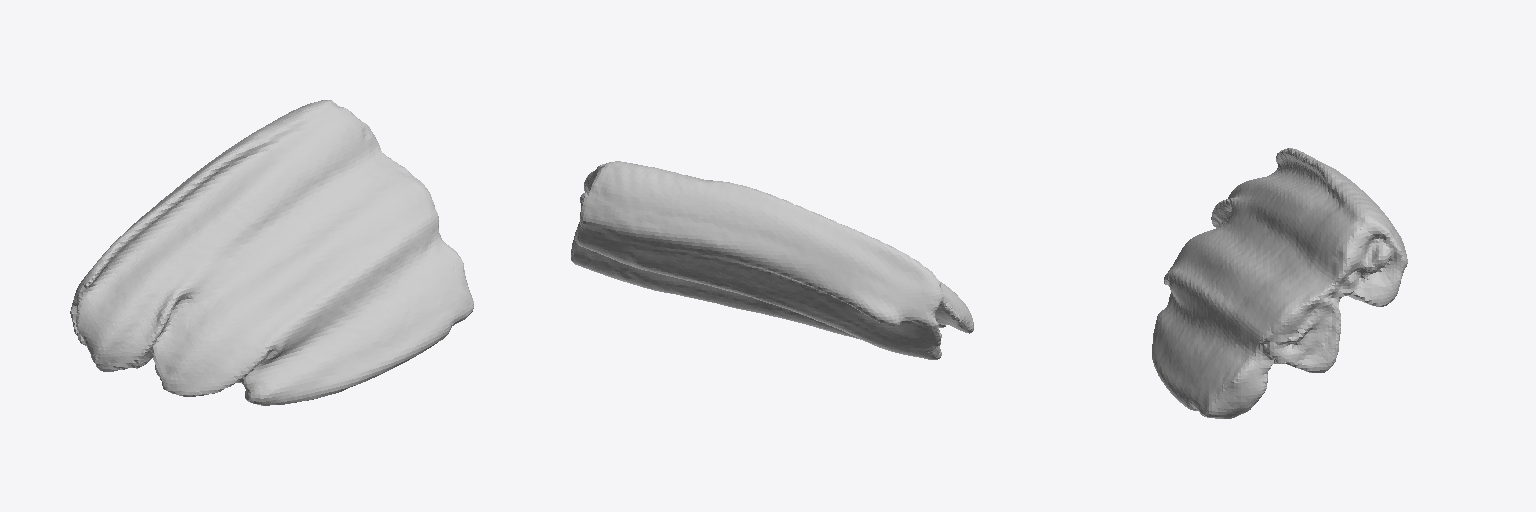
Rendered from MB Ovis 10 M3.obj.
The picture shows the model from 3 angles: view 1: azimuth 30°, elevation 25°; view 2: azimuth 150°, elevation 25°; view 3: azimuth 270°, elevation 25°; orthographic projection.
Bounding box in the file's own units: 35.52 × 17.75 × 21.21.